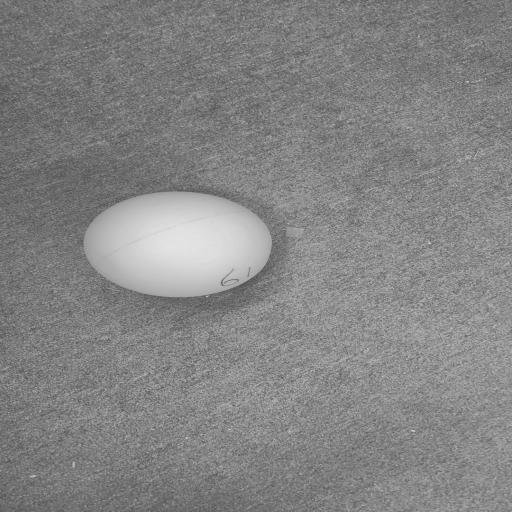fuel: (84, 190, 275, 300)
